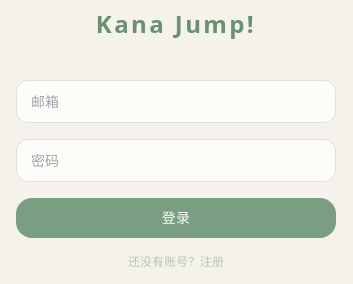
Scenario: AuthGate › disables submit button while loading
Type "test@example.com" into the field with placeholder "邮箱". click: (176, 102)
box: [16,80,336,123]
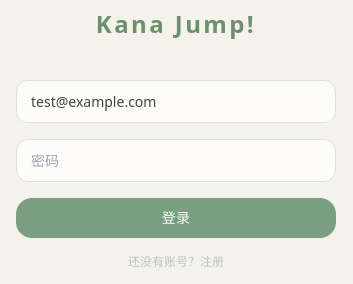
Type "pass" into the password field with placeholder "密码". click: (176, 160)
box: [16,139,336,182]
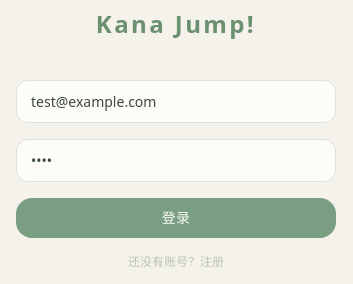
Click the button "登录". click: (176, 218)
box: [16,198,336,238]
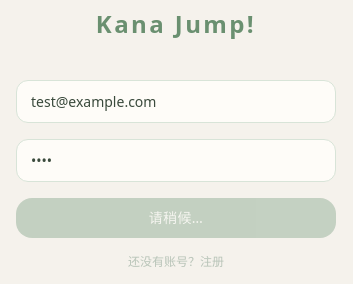
Now the button "请稍候…" is shown, box [16,198,336,238]
